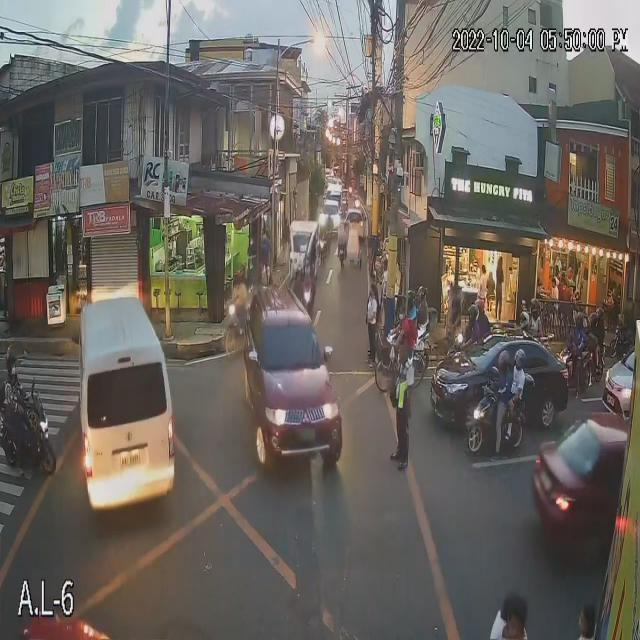helmet: (415, 278, 433, 307), (491, 347, 511, 373), (511, 308, 531, 334), (2, 347, 20, 374), (472, 292, 488, 319), (570, 310, 588, 332), (590, 303, 606, 326), (405, 288, 418, 314), (512, 346, 524, 370), (530, 298, 542, 317), (586, 312, 596, 334), (466, 302, 476, 319)
motorcycle: (0, 381, 64, 482), (460, 386, 530, 475), (553, 347, 599, 392)
rider: (0, 348, 28, 431), (483, 348, 514, 419), (470, 284, 492, 340), (523, 287, 545, 341), (510, 343, 528, 408), (570, 309, 588, 374), (462, 303, 480, 353), (402, 286, 417, 335), (582, 312, 602, 348), (415, 281, 429, 330), (515, 306, 532, 345), (594, 302, 607, 340)
